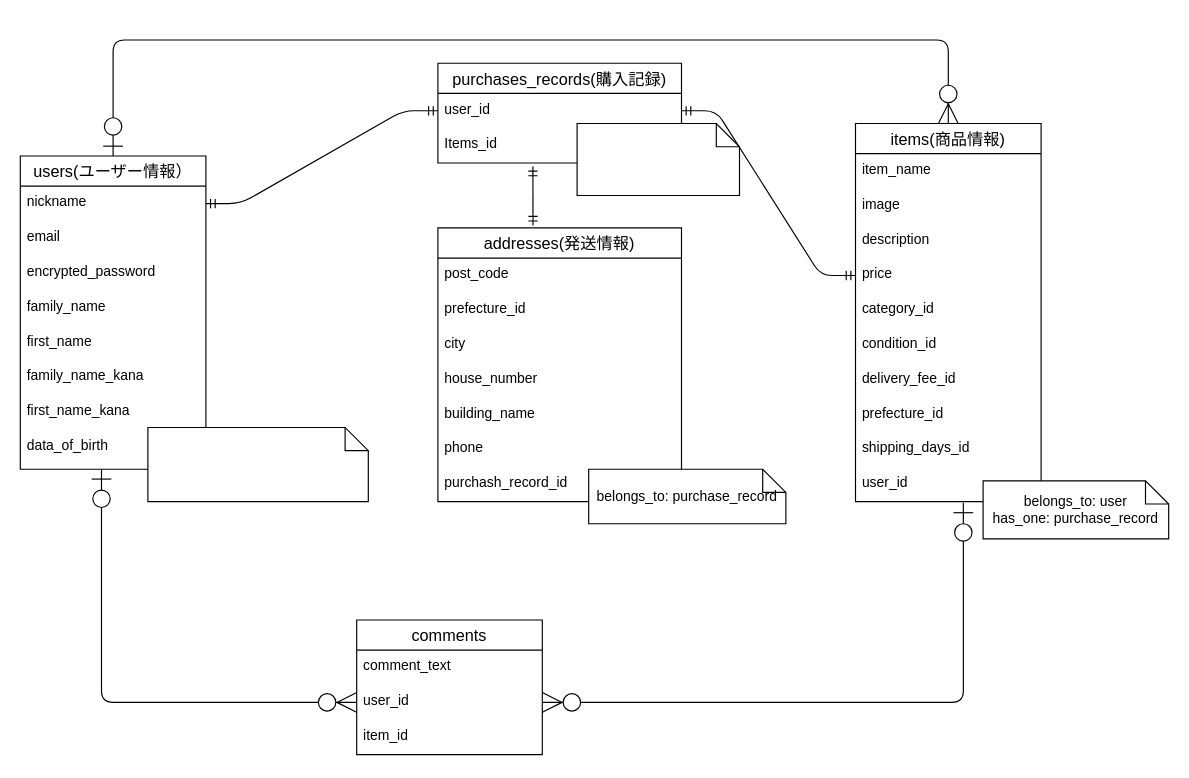
The diagram is 1189 pixels wide and 778 high, and some of its shapes have lost their labels. Here are the shapes that lost their labels. From the top down, the centre of each, then its label:
At (x=658, y=158): "has_one: address belongs_to: user belongs_to: item".
At (x=257, y=464): "has_many: items has_many: purchase_records".
